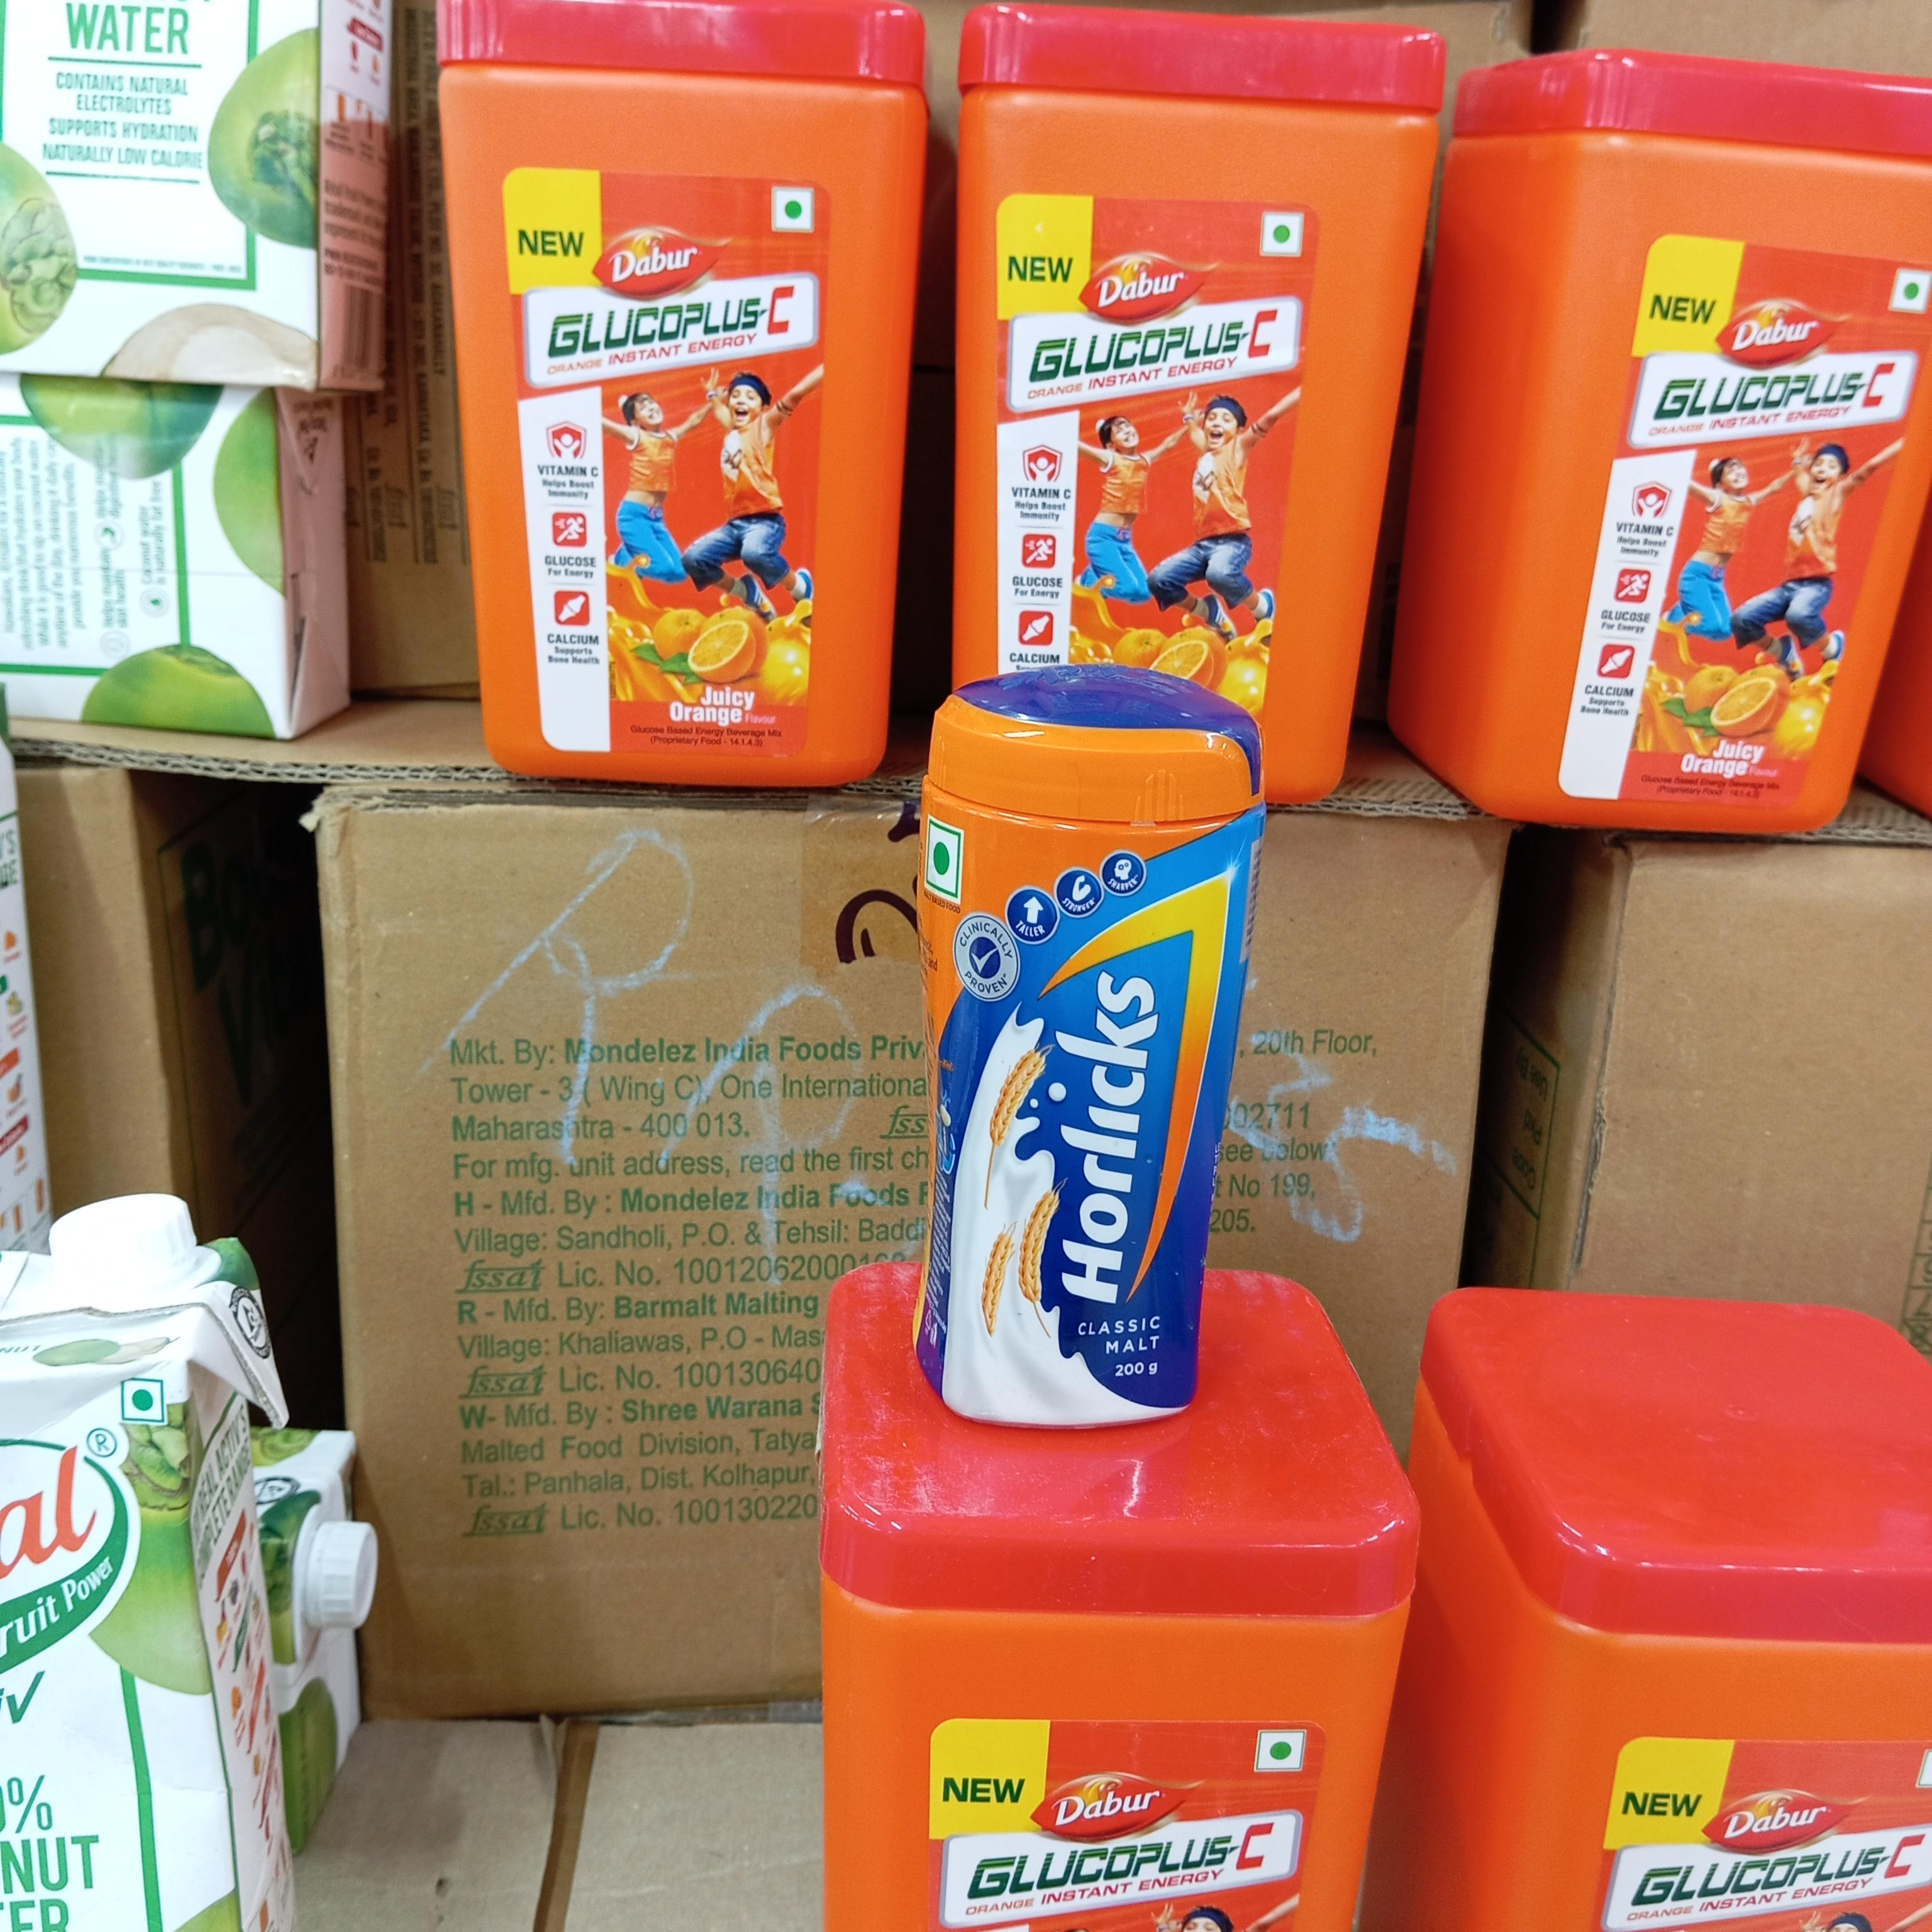HORLICK_CLASSIC_MALT_200_G_JAR: (916, 676, 1208, 1437)
